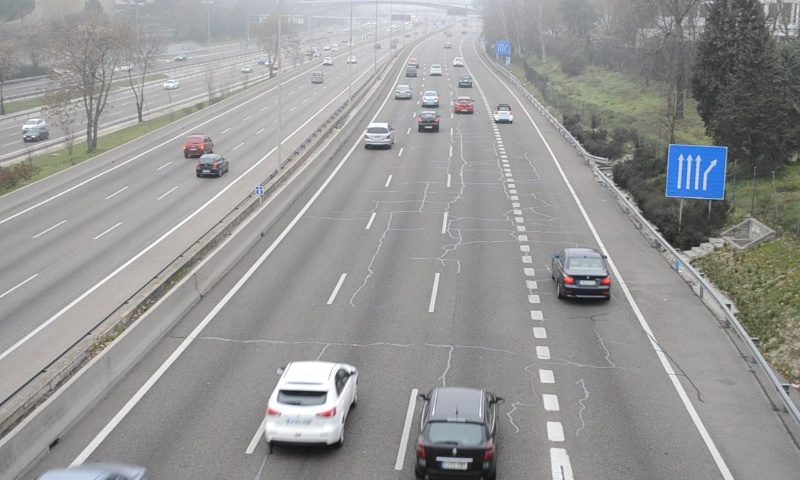car: (265, 361, 358, 449), (416, 386, 496, 480), (552, 246, 614, 300), (362, 122, 394, 150), (492, 102, 514, 124), (417, 111, 440, 132), (454, 96, 474, 115), (393, 84, 414, 100), (421, 90, 438, 107)
